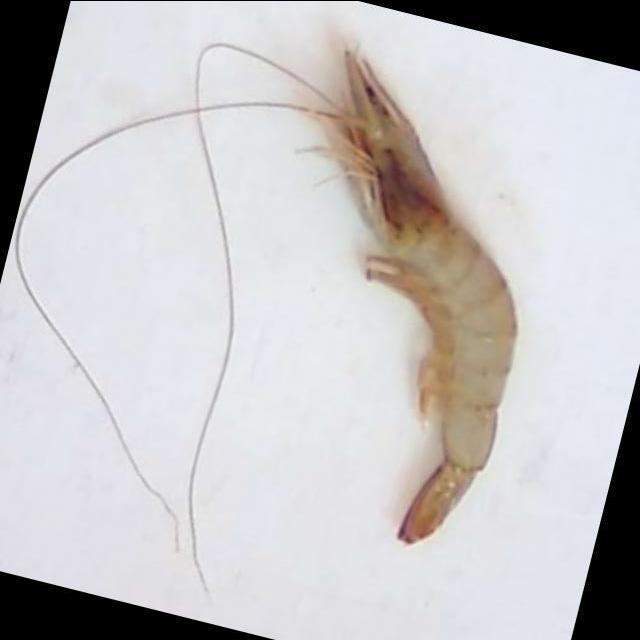shrimp: (346, 50, 517, 543)
